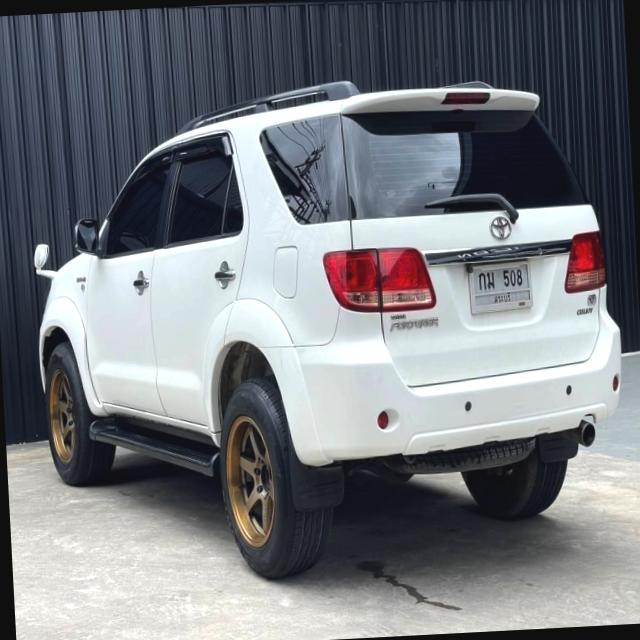license_plate: (466, 256, 536, 314)
